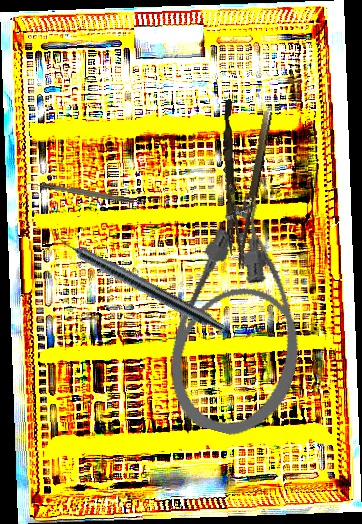Cannula: (154, 191, 335, 447)
Handpiece: (46, 227, 228, 335)
Hook Surgical: (27, 179, 135, 205)
Needle Holder: (213, 106, 274, 270)
Pusher: (220, 99, 240, 256)
